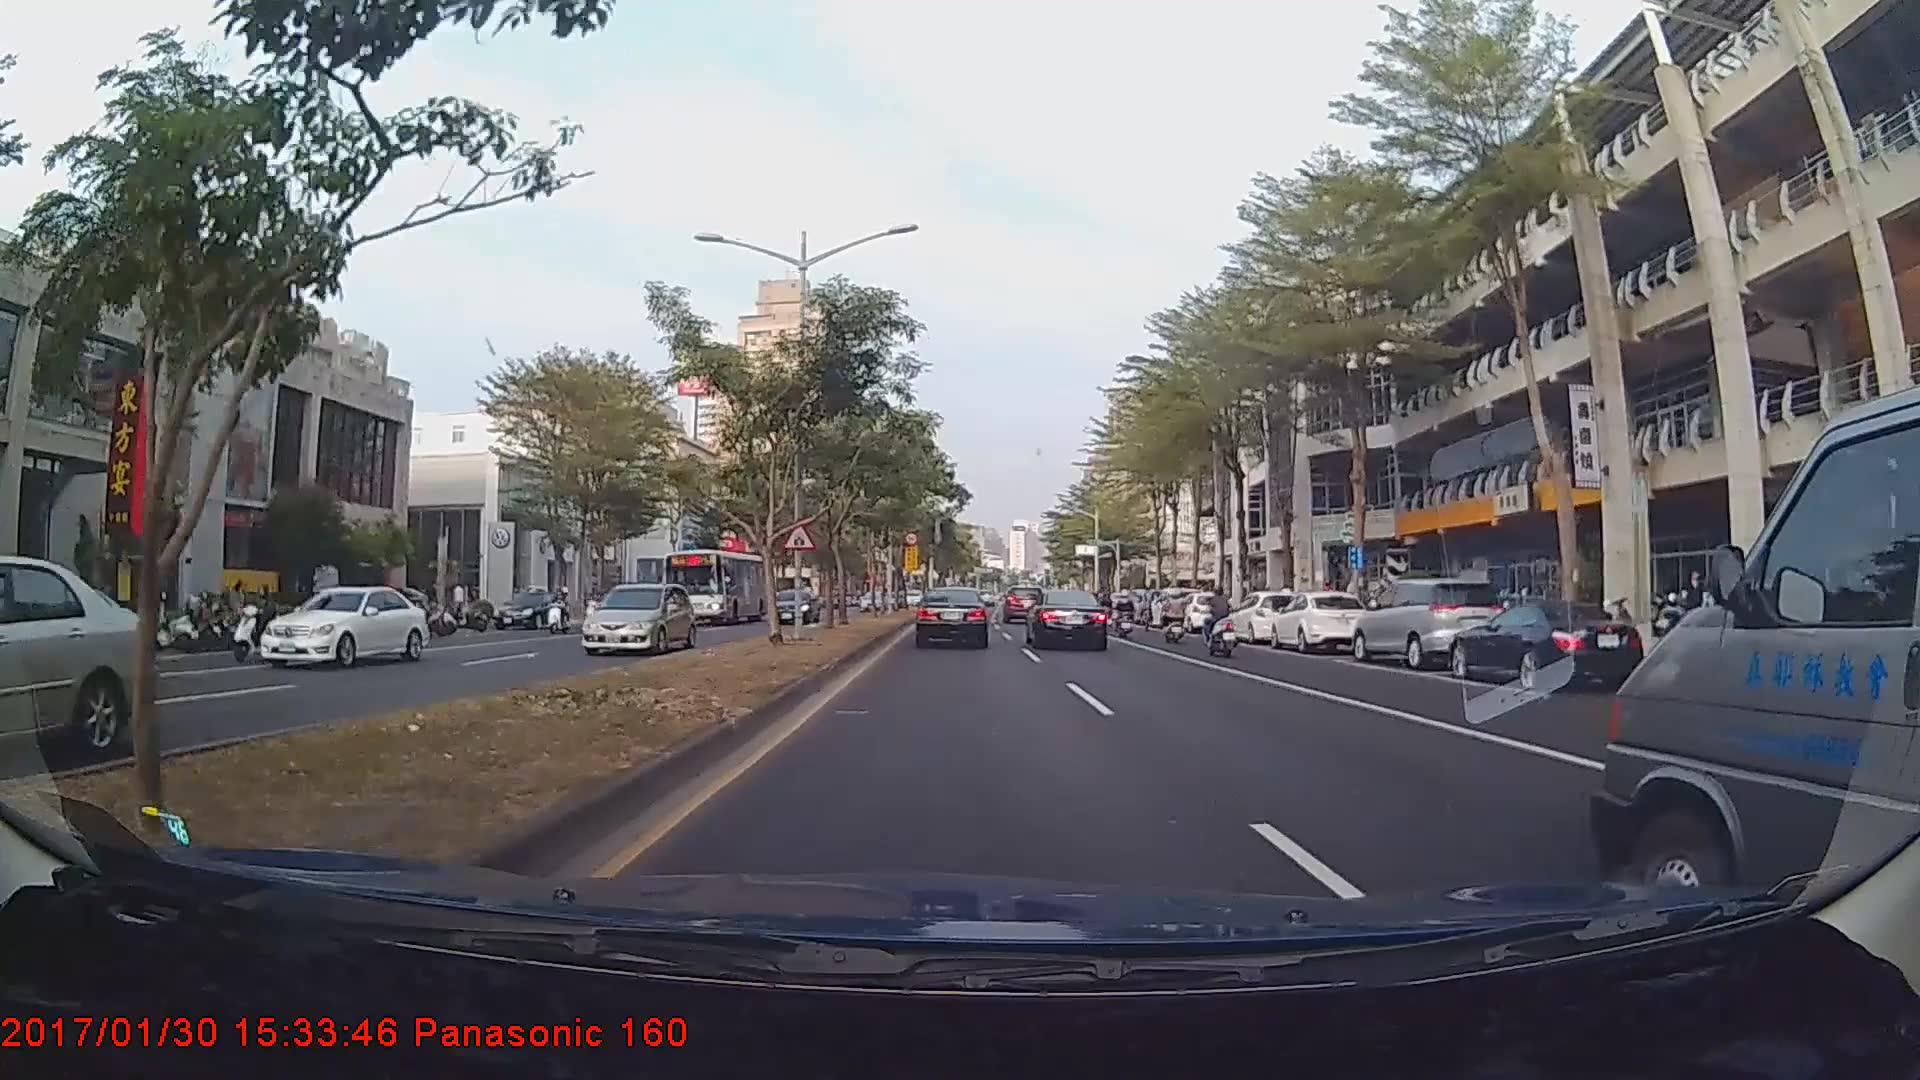rider: (230, 578, 290, 660), (1199, 582, 1248, 660), (1150, 590, 1200, 646), (545, 586, 575, 635), (1111, 586, 1137, 639)
vehicle: (1601, 434, 1912, 889), (1448, 602, 1643, 691), (257, 583, 432, 671), (1353, 571, 1511, 669), (579, 581, 694, 656), (663, 547, 769, 626), (1269, 588, 1372, 650), (1028, 587, 1109, 652), (915, 586, 989, 649), (1224, 588, 1306, 644), (1173, 591, 1231, 631), (766, 588, 815, 623), (1005, 580, 1046, 619)
